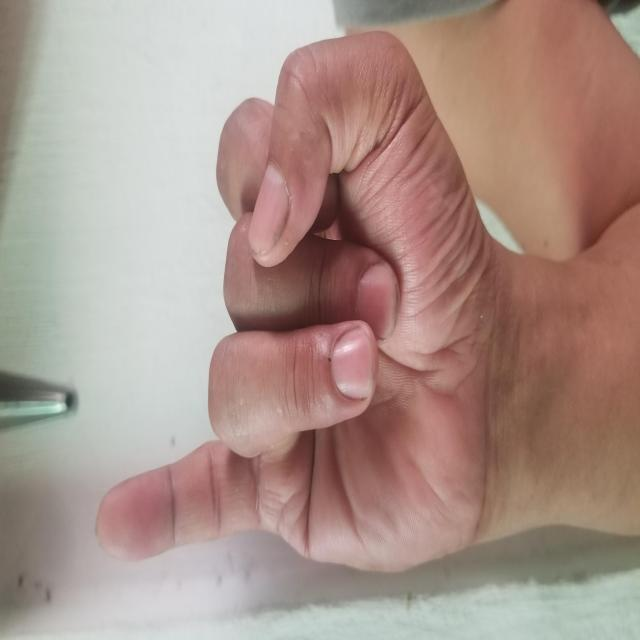I: (65, 92, 613, 486)
